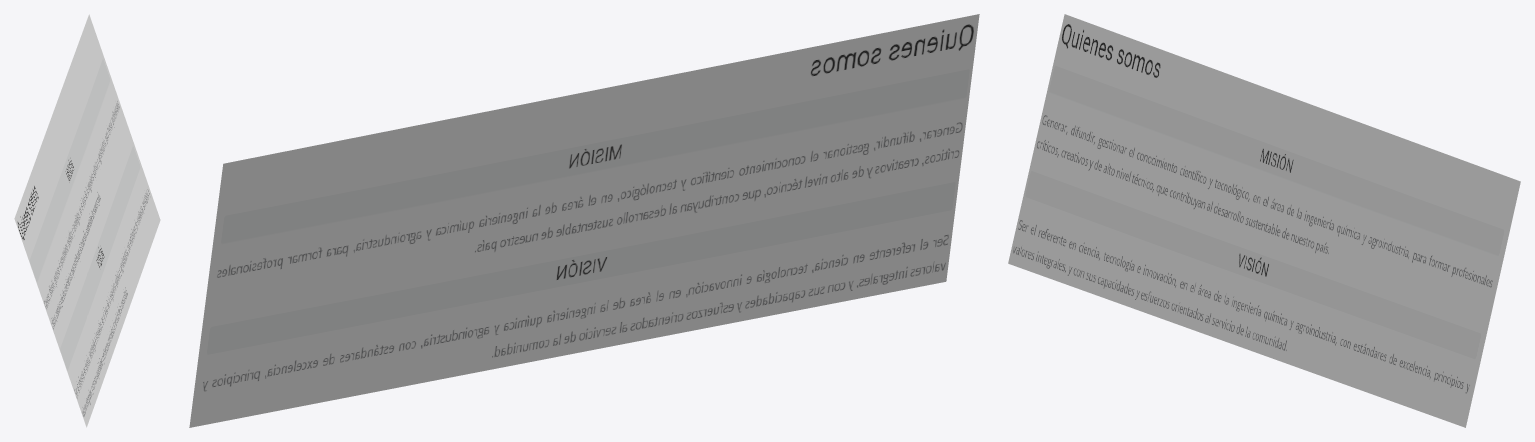
The model's file is quimica.glb.
The picture shows the model from 3 angles, left to right: view 1: azimuth 30°, elevation 25°; view 2: azimuth 150°, elevation 25°; view 3: azimuth 270°, elevation 25°; orthographic projection. The views are drawn at different scales.
Visible parts, largest first — view 1: Cube; view 2: Cube; view 3: Cube.
Boxes of the visible parts, x1,y1,x2,y2 form: Cube: (14,14,160,427); Cube: (189,14,979,427); Cube: (1008,14,1520,427).
Size of the model in its own units: 3.26 by 2.03 by 3.99.
1 material, 1 textured.
